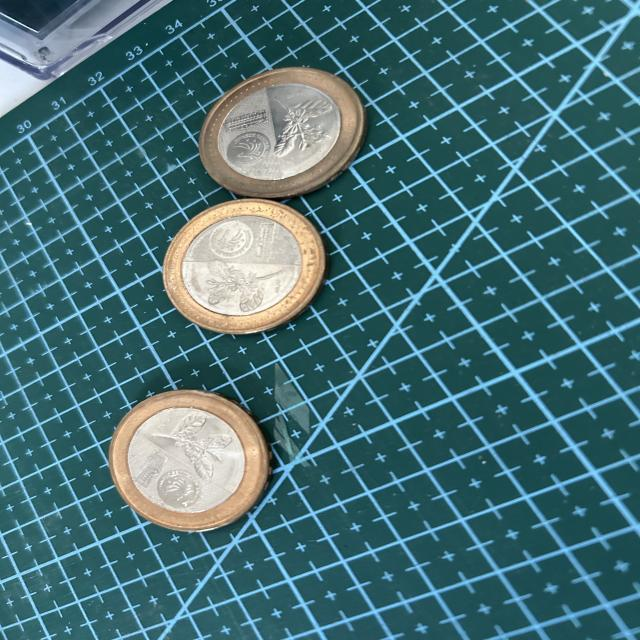20_New_Back: (197, 258, 287, 314), (265, 92, 330, 158)
